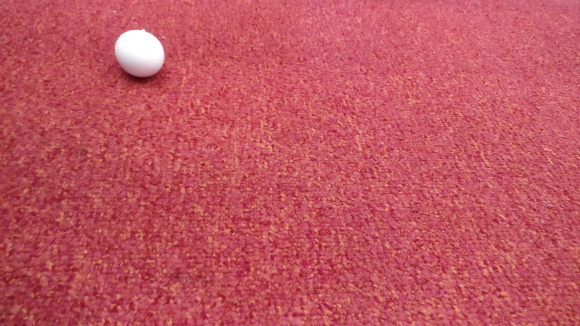egg: (113, 29, 166, 77)
